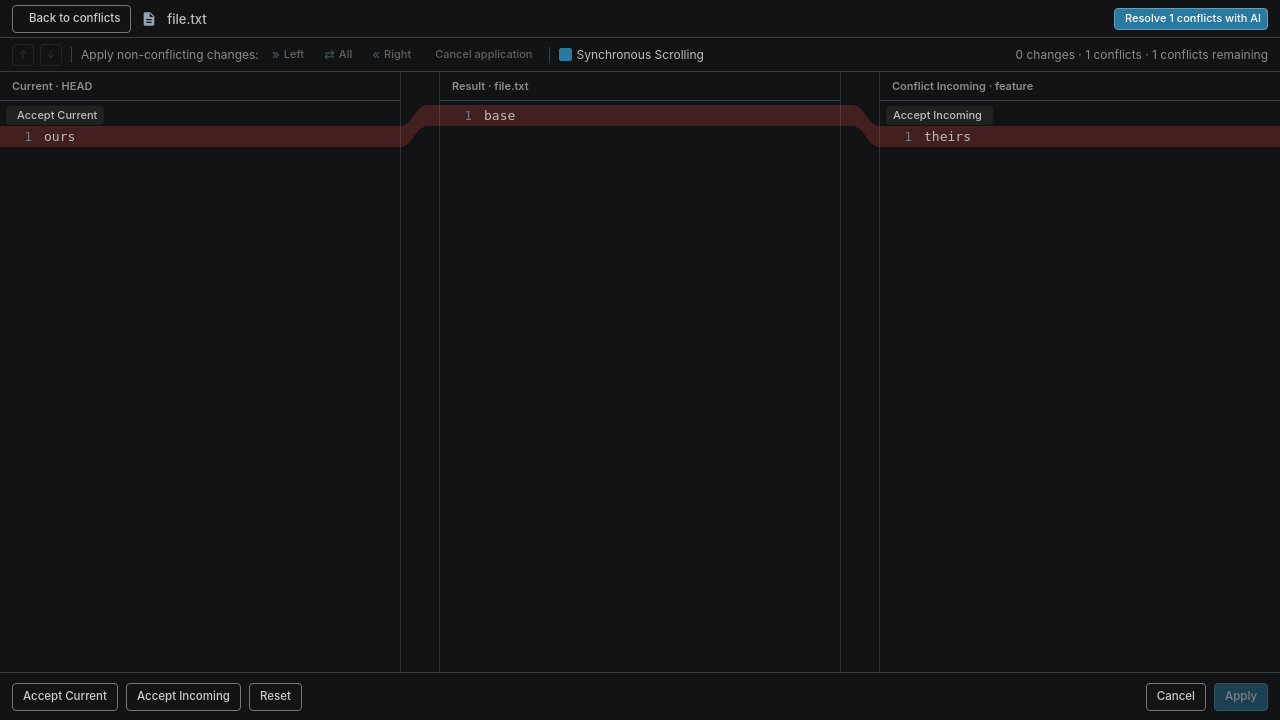
Scenario: restores a cached workspace draft when leaving during AI typing
Click the button "Resolve 1 conflicts with AI": (1191, 18) [1114,8,1268,30]
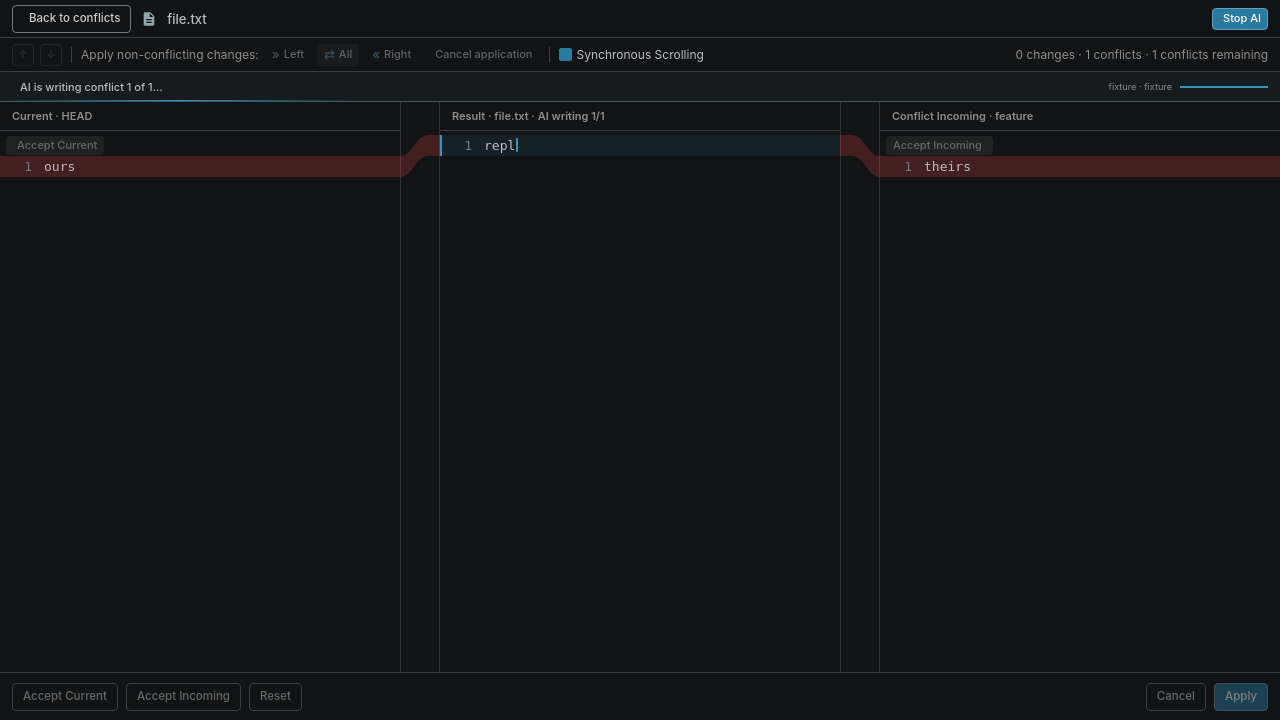
Result: the text "AI is writing conflict 1 of 1…" is shown at [20,80,163,94]
